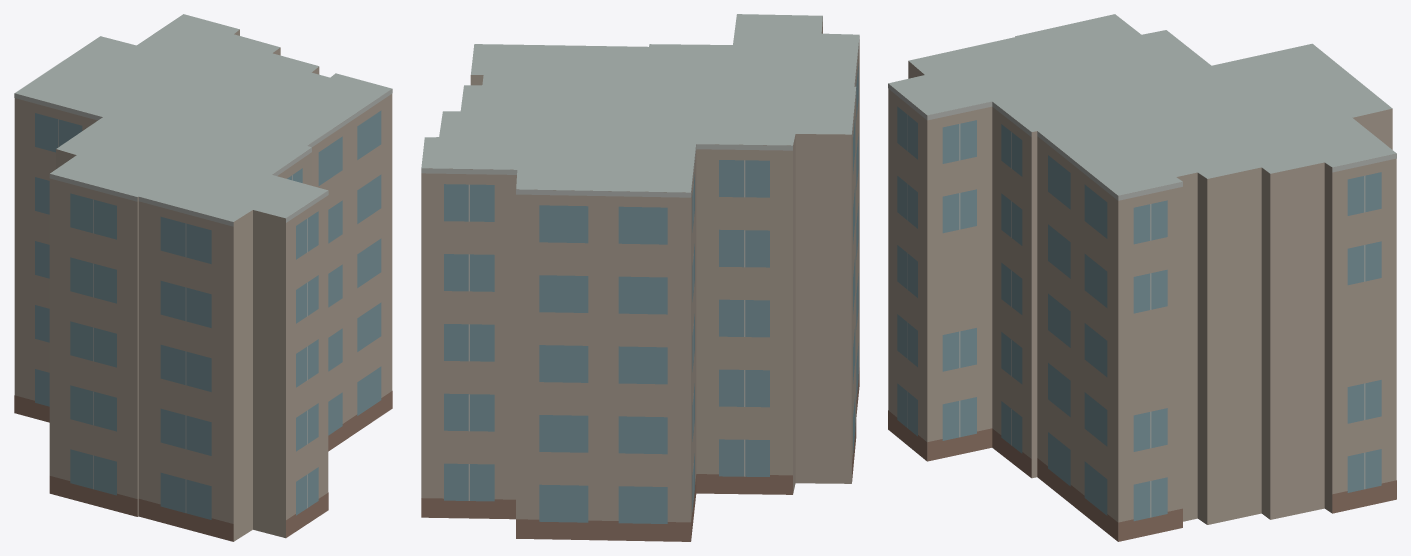
Rendered from survey-upis-33017529.glb.
3 views of the same model, side by side, from view 1: azimuth 30°, elevation 25°; view 2: azimuth 150°, elevation 25°; view 3: azimuth 270°, elevation 25° (orthographic). The views are drawn at different scales.
Visible parts, largest first — view 1: survey-upis-33017529.tmp; view 2: survey-upis-33017529.tmp; view 3: survey-upis-33017529.tmp.
Part boxes in pixels (left/top/right/bottom): survey-upis-33017529.tmp: left=14, top=14, right=392, bottom=541; survey-upis-33017529.tmp: left=421, top=14, right=859, bottom=541; survey-upis-33017529.tmp: left=888, top=14, right=1396, bottom=541.
Size of the model in its own units: 18.7 by 16.6 by 22.12.
